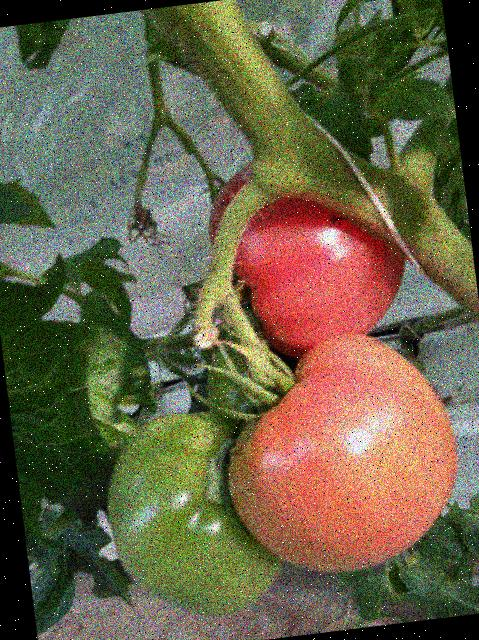b_fully_ripened: (199, 138, 416, 367)
b_green: (96, 402, 288, 628), (198, 310, 308, 439)
b_half_ripened: (211, 322, 470, 585)
